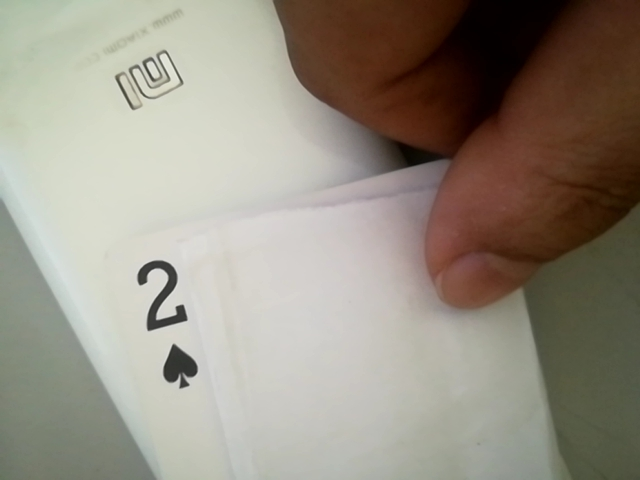ht 2: (116, 242, 219, 402)
